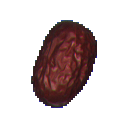gd: (14, 7, 114, 121)
